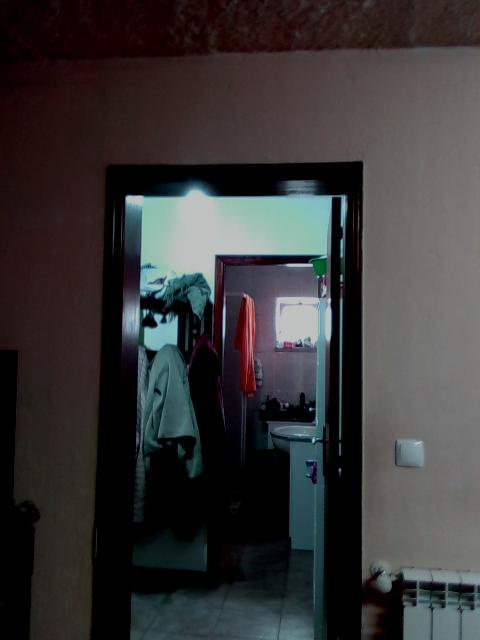open_door: (91, 156, 362, 623)
